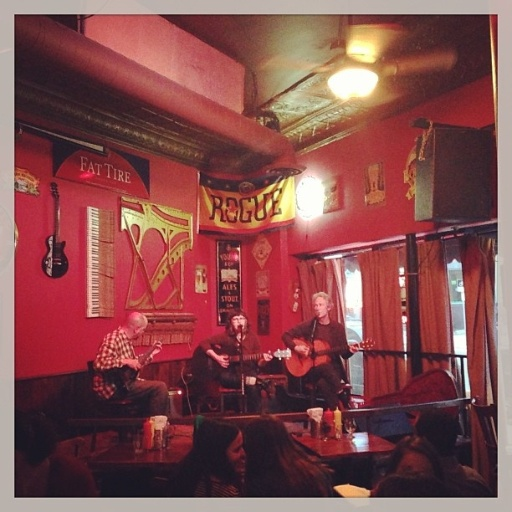hand: (291, 341, 310, 358), (123, 356, 142, 371), (150, 337, 163, 354), (216, 353, 229, 368), (260, 348, 272, 363), (348, 342, 358, 354)
